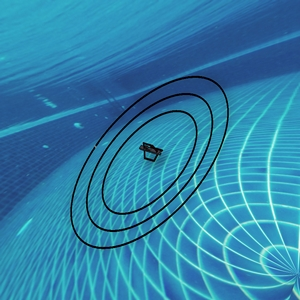circle: (71, 65, 247, 248)
submarine: (136, 141, 166, 163)
